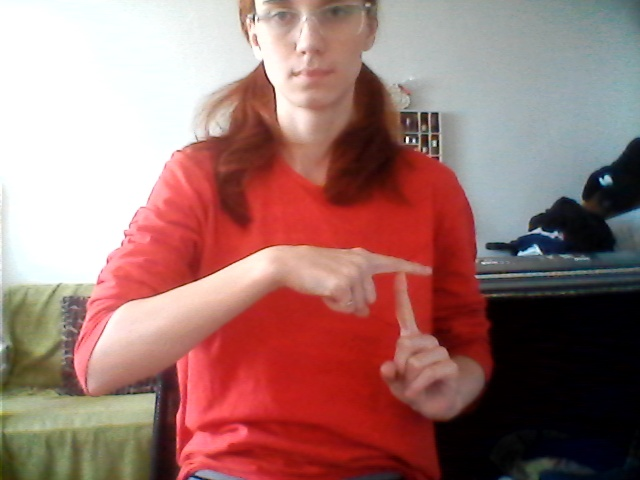t: (309, 231, 464, 425)
